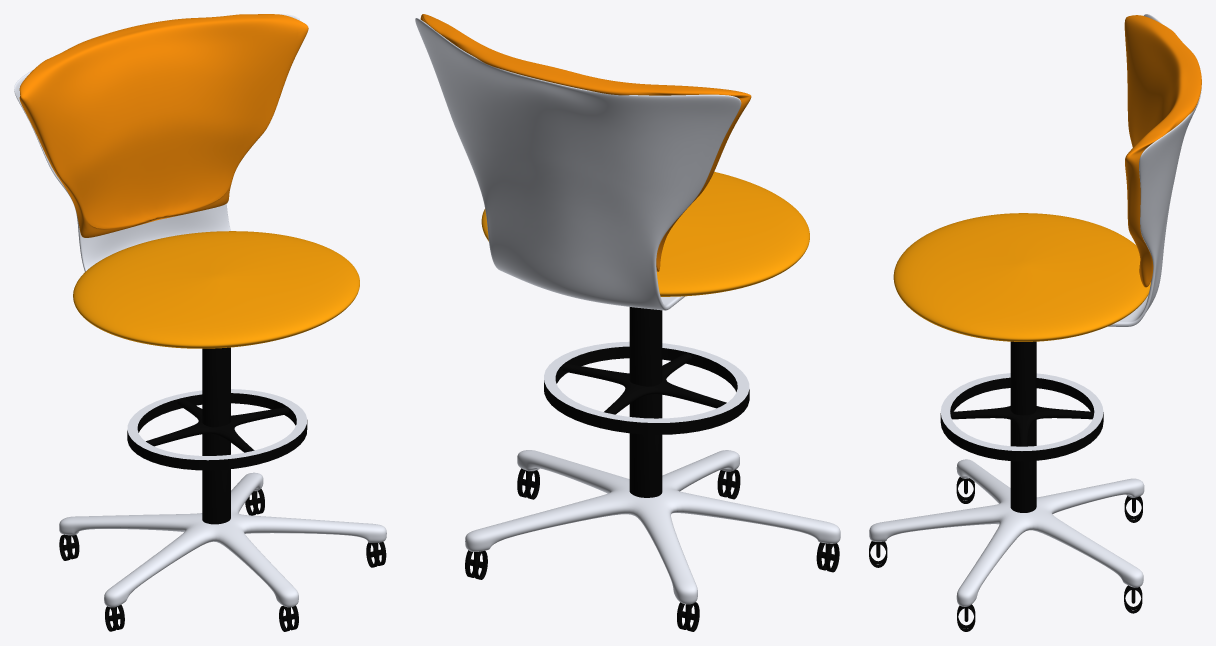
3 renders of one model, left to right at view 1: azimuth 30°, elevation 25°; view 2: azimuth 150°, elevation 25°; view 3: azimuth 270°, elevation 25°, orthographic. The views are drawn at different scales.
Visible parts, largest first — view 1: Cube.004, Cylinder.002, Cube, Cylinder.001, Cylinder, Cube.003, Cube.001; view 2: Cube.003, Cylinder.002, Cube, Cylinder.001, Cylinder, Cube.004, Cube.001; view 3: Cylinder.002, Cube, Cube.004, Cylinder.001, Cube.003, Cylinder, Cube.001.
Part boxes in pixels (left/top/right/bottom): Cube.004: left=19, top=14, right=308, bottom=237; Cylinder.002: left=73, top=231, right=359, bottom=348; Cube: left=59, top=472, right=386, bottom=607; Cylinder.001: left=127, top=389, right=307, bottom=470; Cylinder: left=202, top=347, right=230, bottom=524; Cube.003: left=14, top=14, right=300, bottom=271; Cube.001: left=146, top=398, right=289, bottom=452; Cube.003: left=415, top=18, right=741, bottom=310; Cylinder.002: left=481, top=172, right=809, bottom=296; Cube: left=465, top=450, right=840, bottom=604; Cylinder.001: left=544, top=341, right=749, bottom=434; Cylinder: left=629, top=307, right=662, bottom=497; Cube.004: left=420, top=14, right=751, bottom=271; Cube.001: left=562, top=353, right=726, bottom=414; Cylinder.002: left=893, top=213, right=1150, bottom=341; Cube: left=869, top=459, right=1144, bottom=606; Cube.004: left=1124, top=15, right=1201, bottom=287; Cylinder.001: left=940, top=373, right=1103, bottom=461; Cube.003: left=1108, top=14, right=1201, bottom=326; Cylinder: left=1010, top=341, right=1036, bottom=512; Cube.001: left=950, top=406, right=1094, bottom=446.
Size of the model in its own units: 0.52 by 0.84 by 0.52.
